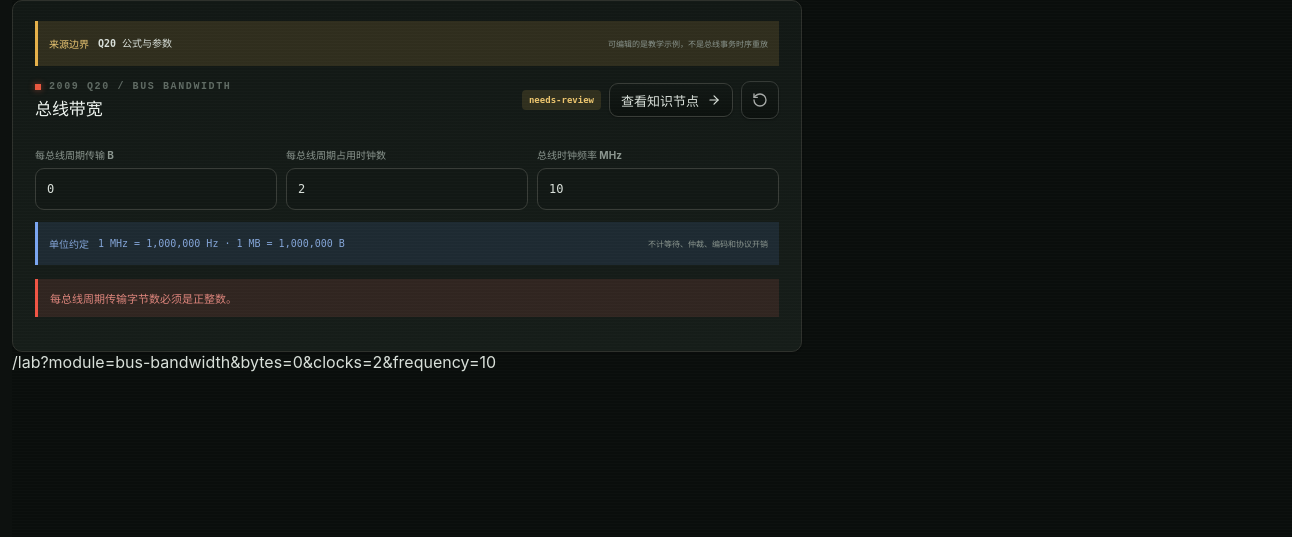
Test: BusBandwidthLabPanel › fails closed for invalid input and restores the canonical preset
Expected: the message shows "每总线周期传输", [50,292,237,306]
Click the button named "恢复 Q20 预设". click: coordinates (760, 100)
box: [741,81,779,119]
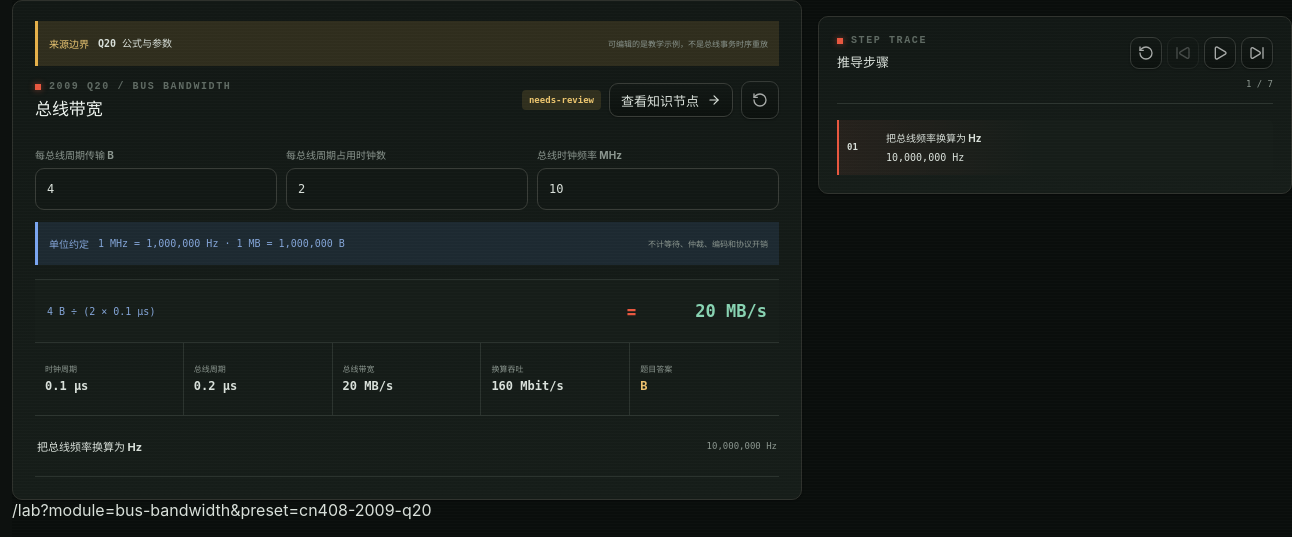
Result: the message "每总线周期传输字节数必须是正整数。" is gone
Result: the element named "总线带宽 MB/s" shows "20 MB/s" at [333,343,481,415]
Result: the text named "current URL" shows "module=bus-bandwidth&preset=cn408-2009-q20" at [12,500,432,520]
